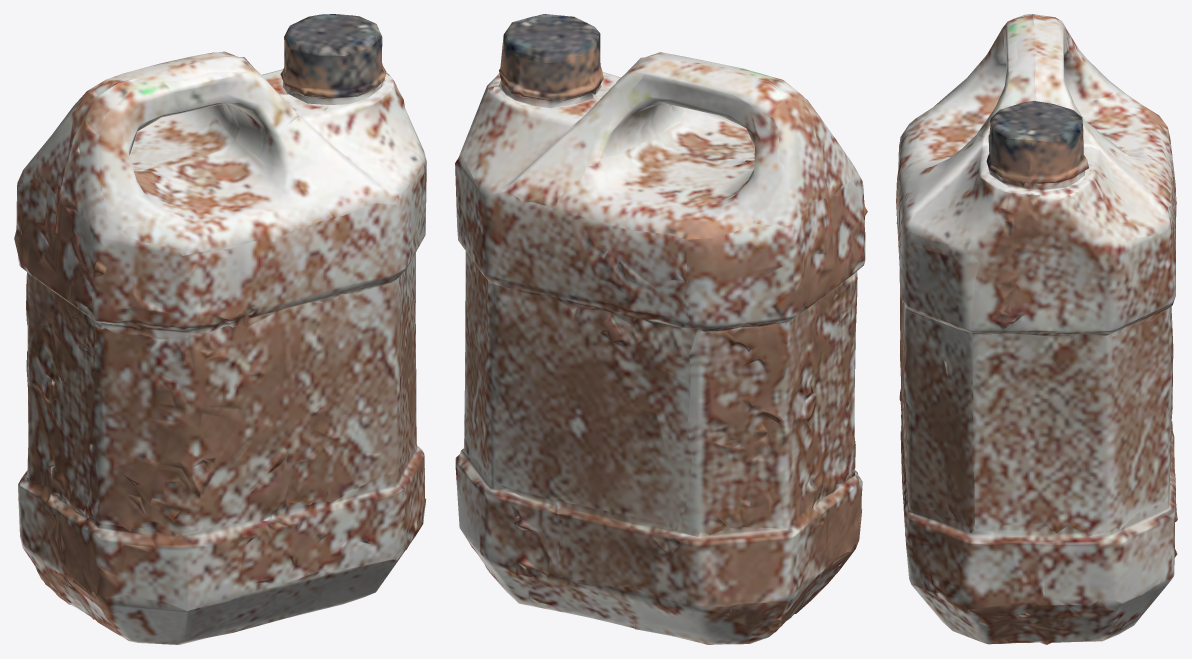
File: SM_Ind_Con_Oil_Plastic_Pack_02_E.gltf
3 renders of one model, left to right at view 1: azimuth 30°, elevation 25°; view 2: azimuth 150°, elevation 25°; view 3: azimuth 270°, elevation 25°, orthographic. The views are drawn at different scales.
Visible parts, largest first — view 1: SM_Ind_Con_Oil_Plastic_Pack_02_E; view 2: SM_Ind_Con_Oil_Plastic_Pack_02_E; view 3: SM_Ind_Con_Oil_Plastic_Pack_02_E.
Part boxes in pixels (<box>): SM_Ind_Con_Oil_Plastic_Pack_02_E: <box>14,14,426,644</box>; SM_Ind_Con_Oil_Plastic_Pack_02_E: <box>455,14,867,644</box>; SM_Ind_Con_Oil_Plastic_Pack_02_E: <box>896,14,1177,644</box>.
Size of the model in its own units: 0.1492 by 0.2233 by 0.11.
Materials: 1 (1 with a texture image).
